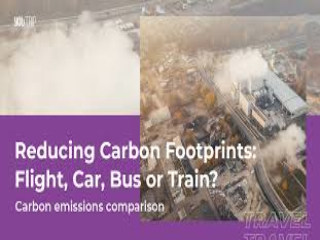smoke: (1, 27, 139, 117), (209, 46, 275, 107), (258, 123, 303, 169)
